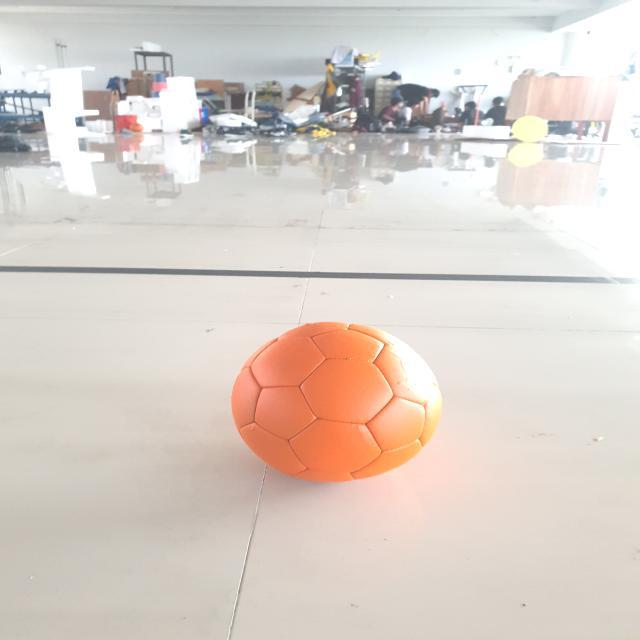bola: (226, 316, 444, 487)
